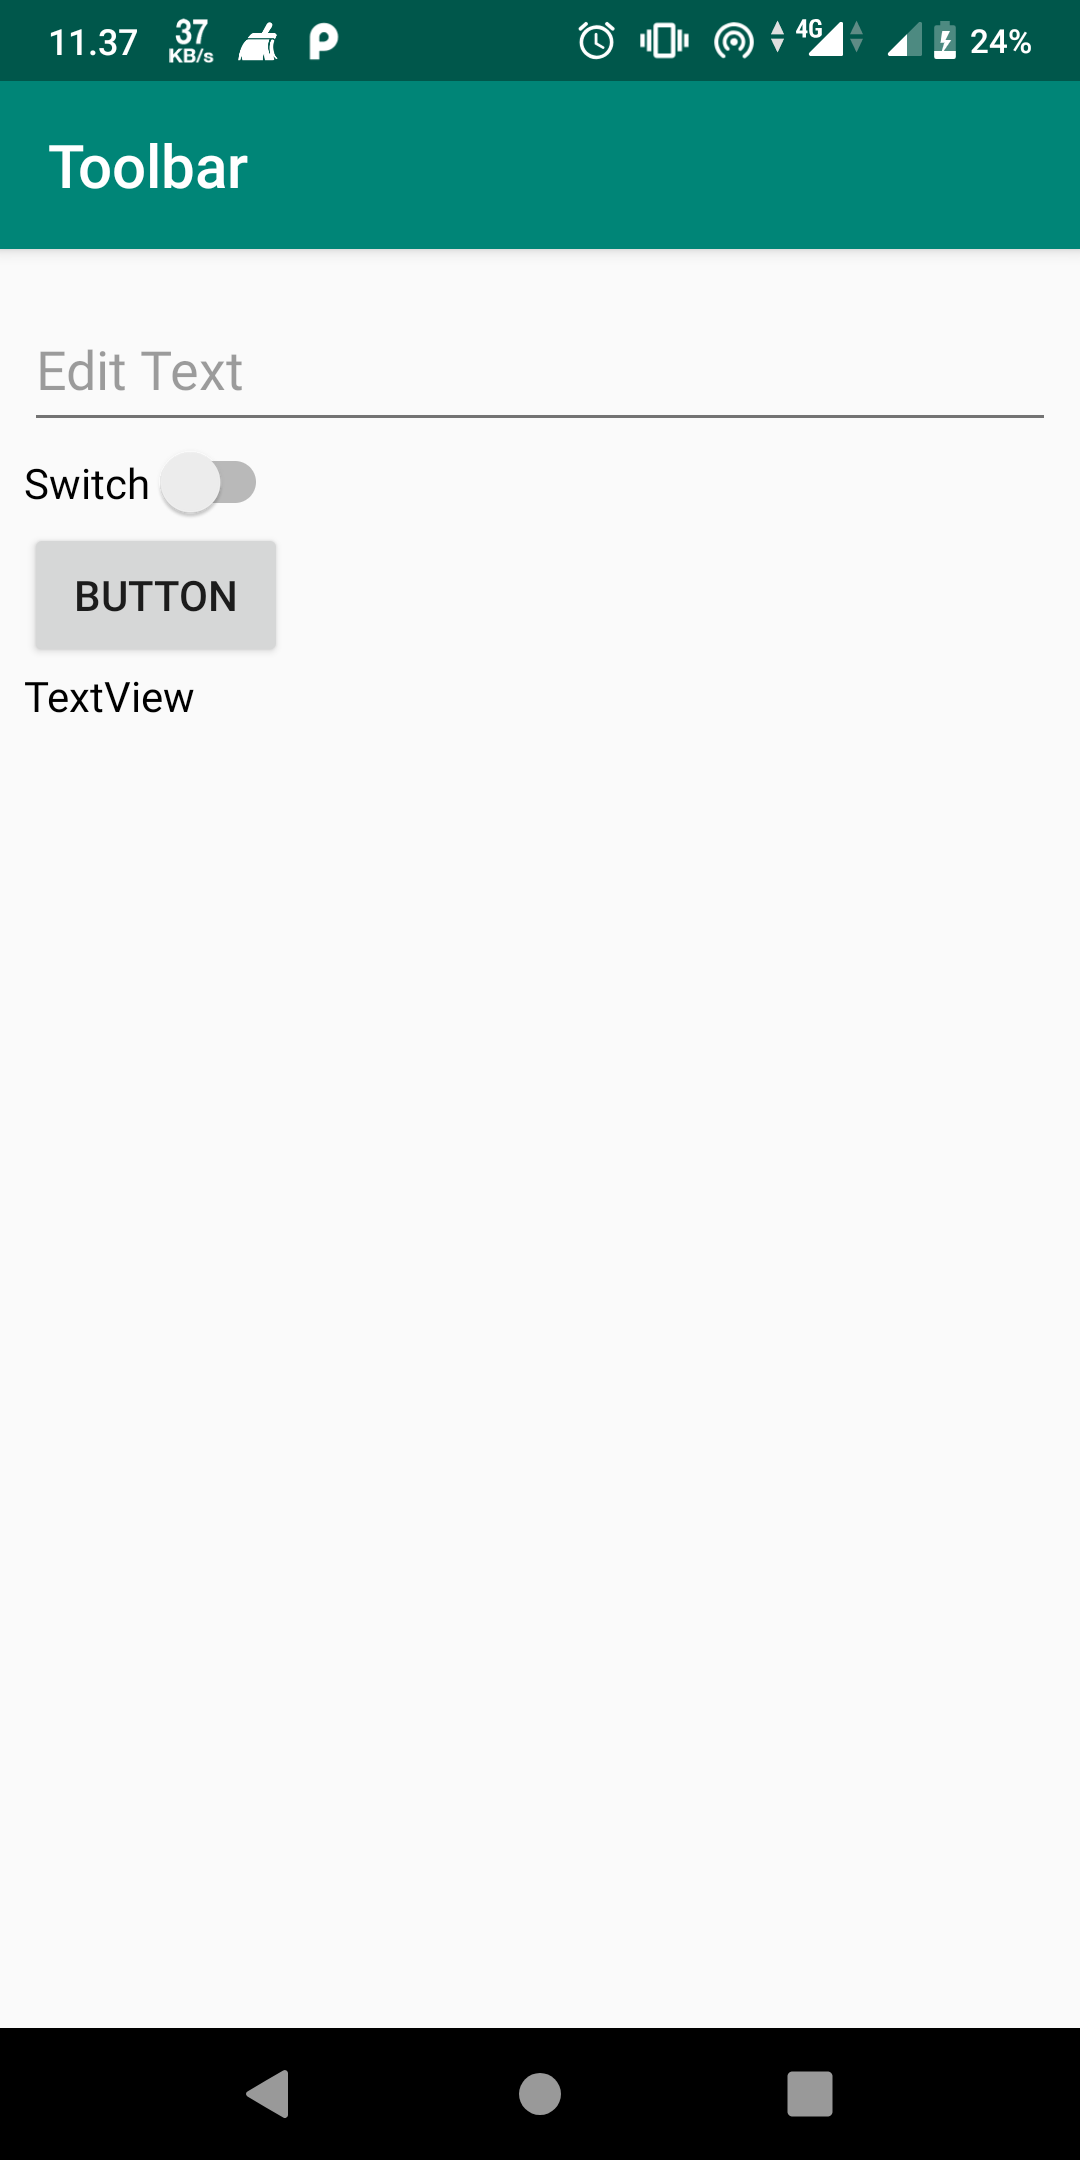button: (28, 534, 280, 657)
editText: (19, 335, 1068, 438)
switch: (15, 450, 267, 522)
textView: (22, 674, 198, 719)
toolbar: (3, 83, 1080, 248)
